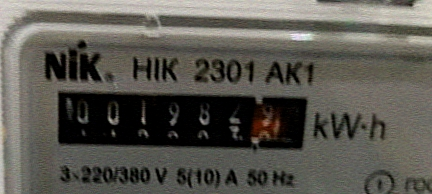0: (103, 96, 121, 126), (73, 94, 90, 124)
1: (135, 95, 148, 124)
2: (225, 94, 244, 124)
8: (195, 96, 212, 125)
9: (256, 99, 277, 128), (164, 97, 180, 126)
screen: (38, 65, 323, 172)
